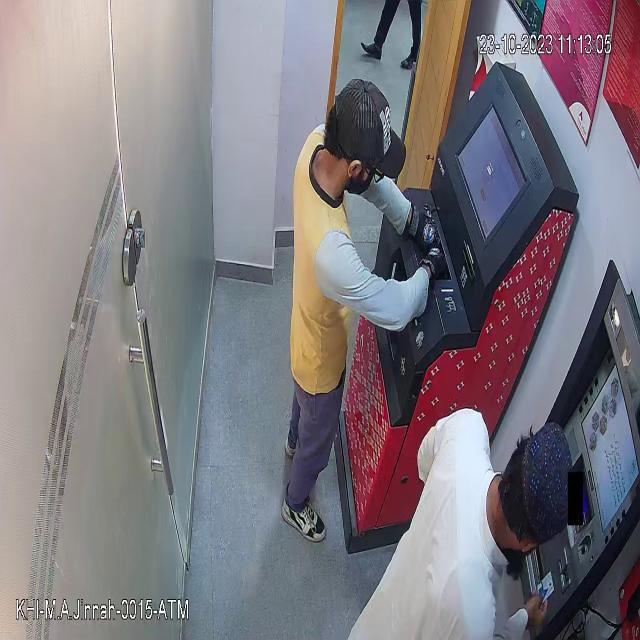atm-card: (533, 565, 559, 607)
